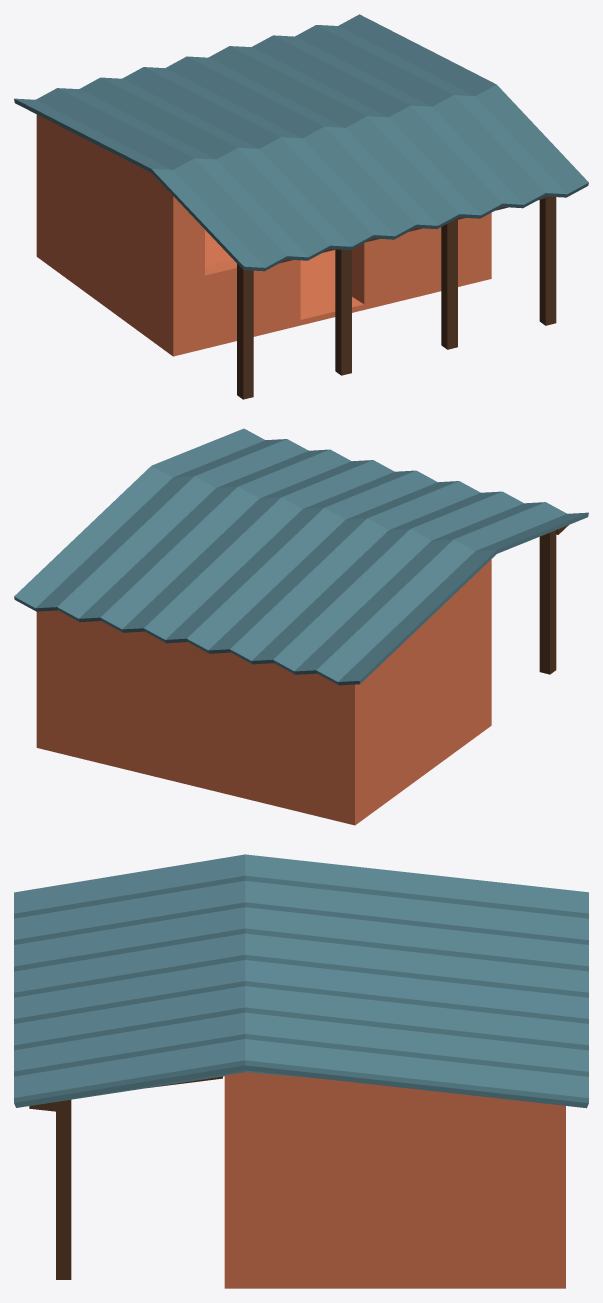
File: Building_04.fbx
3 views of the same model, one above another, from view 1: azimuth 30°, elevation 25°; view 2: azimuth 150°, elevation 25°; view 3: azimuth 270°, elevation 25° (orthographic). The views are drawn at different scales.
Parts seen in each view (by area): view 1: Building_V04; view 2: Building_V04; view 3: Building_V04.
Boxes of the visible parts, <box> form: Building_V04: <box>14,14,588,399</box>; Building_V04: <box>14,428,588,825</box>; Building_V04: <box>14,854,588,1288</box>.
Bounding box in the file's own units: 534 × 273 × 615.
